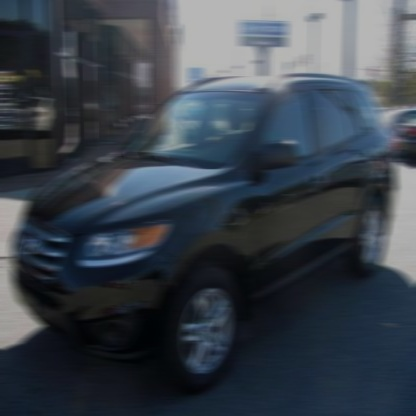Vehicle: (9, 65, 406, 385)
